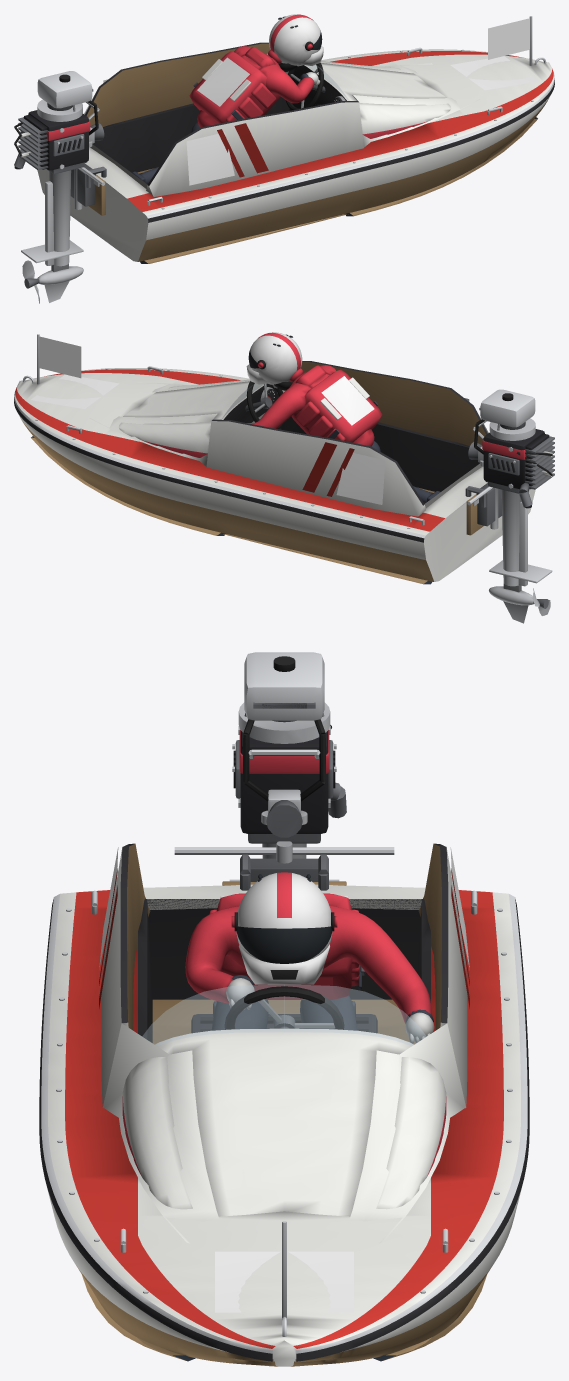
File: boat.glb
3 views of the same model, one above another, from view 1: azimuth 30°, elevation 25°; view 2: azimuth 150°, elevation 25°; view 3: azimuth 270°, elevation 25° (orthographic). The views are drawn at different scales.
Parts seen in each view (by area): view 1: Hull, Cowl, Motor, RacerUpper, Plates, Fittings, Flag, Wheel; view 2: Hull, Cowl, Motor, RacerUpper, Plates, Fittings, Flag, Wheel; view 3: Hull, Cowl, RacerUpper, Motor, Glass, Plates, Fittings, RacerLower, Wheel.
Boxes of the visible parts, <box> form: Hull: <box>37,49,554,261</box>; Cowl: <box>84,42,480,196</box>; Motor: <box>14,71,106,303</box>; RacerUpper: <box>189,14,323,127</box>; Plates: <box>103,56,537,185</box>; Fittings: <box>88,47,546,263</box>; Flag: <box>488,18,529,59</box>; Wheel: <box>285,62,323,110</box>; Hull: <box>14,368,535,581</box>; Cowl: <box>89,361,488,516</box>; Motor: <box>465,389,554,623</box>; RacerUpper: <box>246,332,382,446</box>; Plates: <box>31,374,469,504</box>; Fittings: <box>22,366,483,584</box>; Flag: <box>39,336,81,378</box>; Wheel: <box>246,381,284,429</box>; Hull: <box>39,884,529,1366</box>; Cowl: <box>99,843,469,1243</box>; RacerUpper: <box>185,872,434,1043</box>; Motor: <box>174,652,394,890</box>; Glass: <box>142,985,426,1045</box>; Plates: <box>99,847,469,1312</box>; Fittings: <box>56,879,512,1361</box>; RacerLower: <box>211,995,357,1030</box>; Wheel: <box>224,986,344,1029</box>.
Size of the model in its own units: 3.34 by 1.37 by 1.34.
